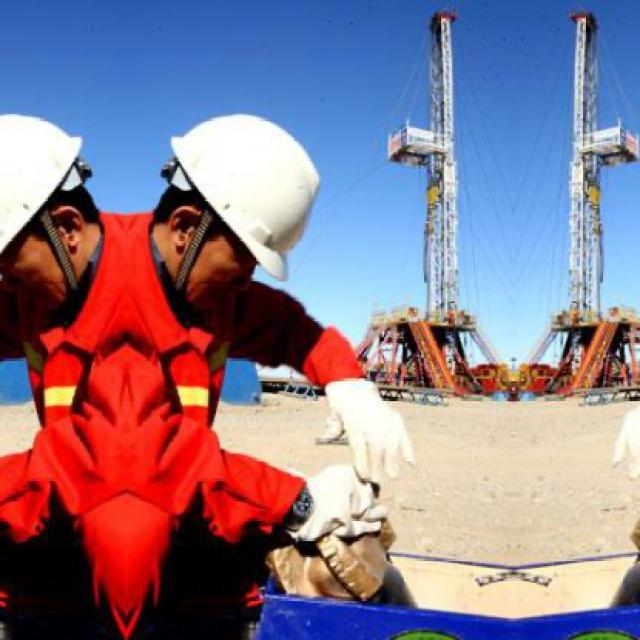helmet: (128, 108, 325, 324), (1, 106, 125, 325)
